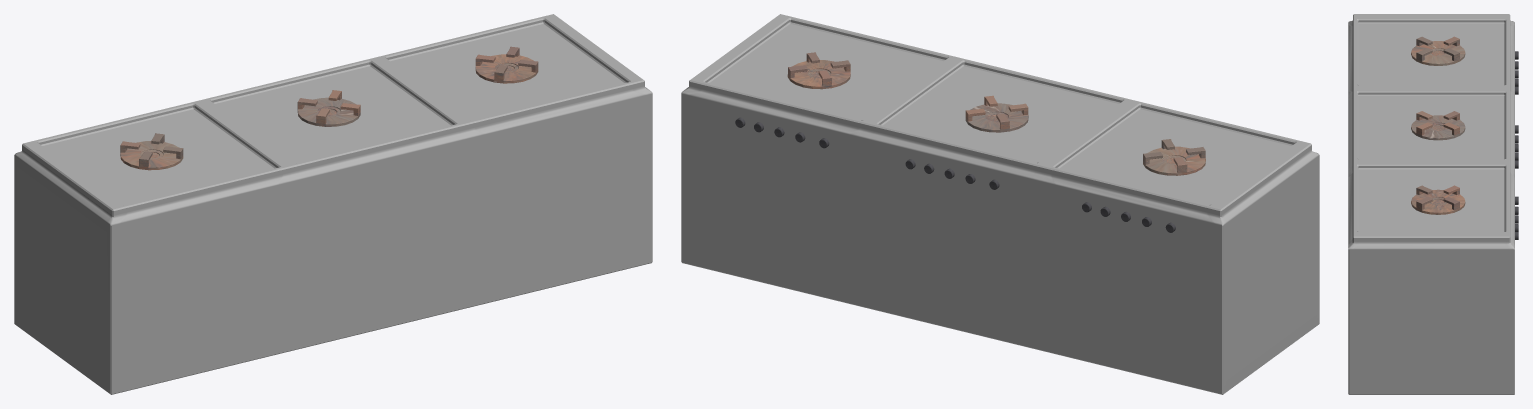
The model's file is STove.fbx.
3 views of the same model, side by side, from view 1: azimuth 30°, elevation 25°; view 2: azimuth 150°, elevation 25°; view 3: azimuth 270°, elevation 25° (orthographic). The views are drawn at different scales.
Parts seen in each view (by area): view 1: pCylinder66; view 2: pCylinder66; view 3: pCylinder66.
Boxes of the visible parts, x1,y1,x2,y2 form: pCylinder66: [14, 14, 652, 394]; pCylinder66: [681, 14, 1319, 394]; pCylinder66: [1348, 14, 1518, 394].
Size of the model in its own units: 344 by 114 by 109.
